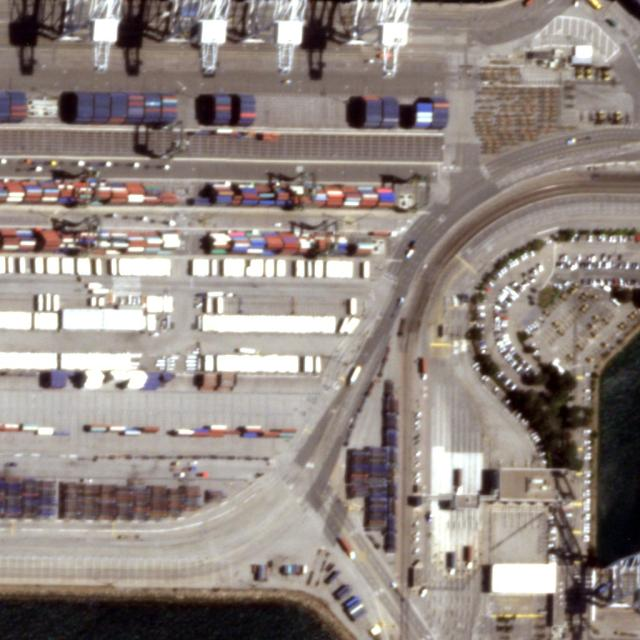containers: (0, 178, 177, 209), (210, 183, 399, 211), (1, 229, 185, 255), (209, 233, 393, 258), (65, 92, 175, 123)
